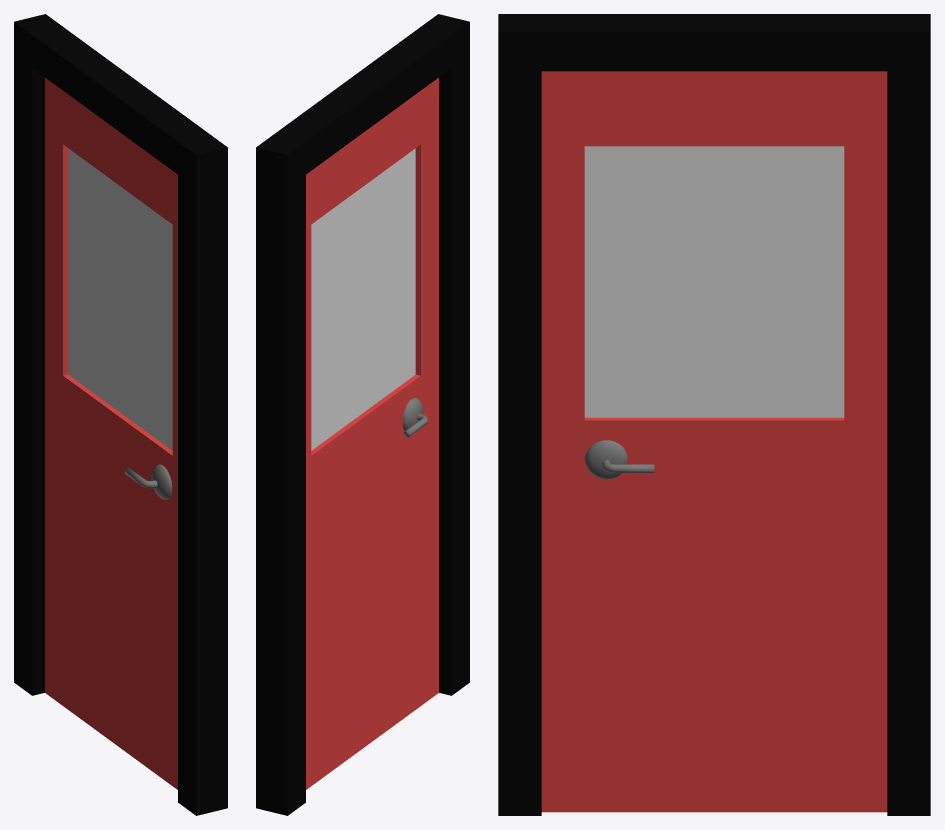
Rendered from Door.fbx.
3 renders of one model, left to right at view 1: azimuth 30°, elevation 25°; view 2: azimuth 150°, elevation 25°; view 3: azimuth 270°, elevation 25°, orthographic. The views are drawn at different scales.
Visible parts, largest first — view 1: Door, Frame; view 2: Door, Frame; view 3: Door, Frame.
Boxes of the visible parts, x1,y1,x2,y2 form: Door: (45, 77, 177, 789); Frame: (14, 14, 227, 815); Door: (306, 77, 438, 789); Frame: (256, 14, 469, 815); Door: (541, 71, 887, 812); Frame: (498, 14, 930, 815).
Size of the model in its own units: 15.87 by 200 by 100.
